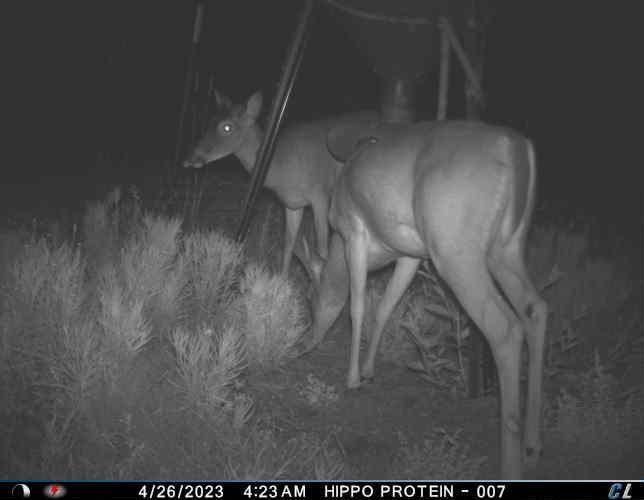Deer: (296, 117, 554, 483), (179, 88, 391, 281)
